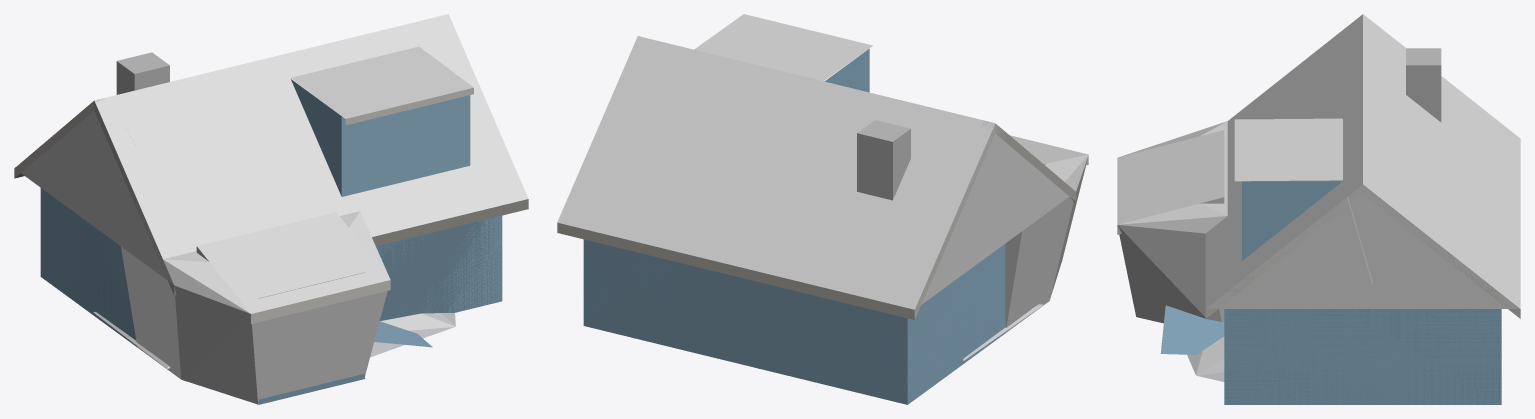
Rendered from bld_house_c.glb.
3 renders of one model, left to right at view 1: azimuth 30°, elevation 25°; view 2: azimuth 150°, elevation 25°; view 3: azimuth 270°, elevation 25°, orthographic. The views are drawn at different scales.
Visible parts, largest first — view 1: chunk_00, chunk_04, intact, damaged, chunk_06, chunk_02, chunk_01, chunk_07, chunk_05, rubble; view 2: chunk_06, damaged, chunk_02, chunk_07, chunk_03, chunk_00, intact, chunk_04; view 3: chunk_07, chunk_03, chunk_06, chunk_00, damaged, intact, chunk_01, chunk_05, chunk_04, rubble, chunk_02.
Boxes of the visible parts, x1,y1,x2,y2 form: chunk_00: (121,211,390,404); chunk_04: (121,116,359,261); intact: (16,14,473,323); damaged: (14,52,528,404); chunk_06: (32,54,308,228); chunk_02: (21,163,135,343); chunk_01: (360,173,528,314); chunk_07: (292,14,474,109); chunk_05: (334,75,517,210); rubble: (93,312,455,368); chunk_06: (727,74,1022,283); damaged: (557,36,1075,404); chunk_02: (716,213,1022,404); chunk_07: (569,36,795,234); chunk_03: (557,196,726,359); chunk_00: (1005,135,1088,332); intact: (642,14,1088,201); chunk_04: (1022,156,1057,212); chunk_07: (1310,109,1498,291); chunk_03: (1310,216,1520,404); chunk_06: (1310,14,1498,215); chunk_00: (1117,121,1227,323); damaged: (1224,48,1520,404); intact: (1117,38,1367,318); chunk_01: (1205,216,1310,404); chunk_05: (1227,180,1310,291); chunk_04: (1199,56,1310,215); rubble: (1160,305,1224,381); chunk_02: (1498,121,1520,232).
Bounding box in the file's own units: 8 × 5 × 8.
